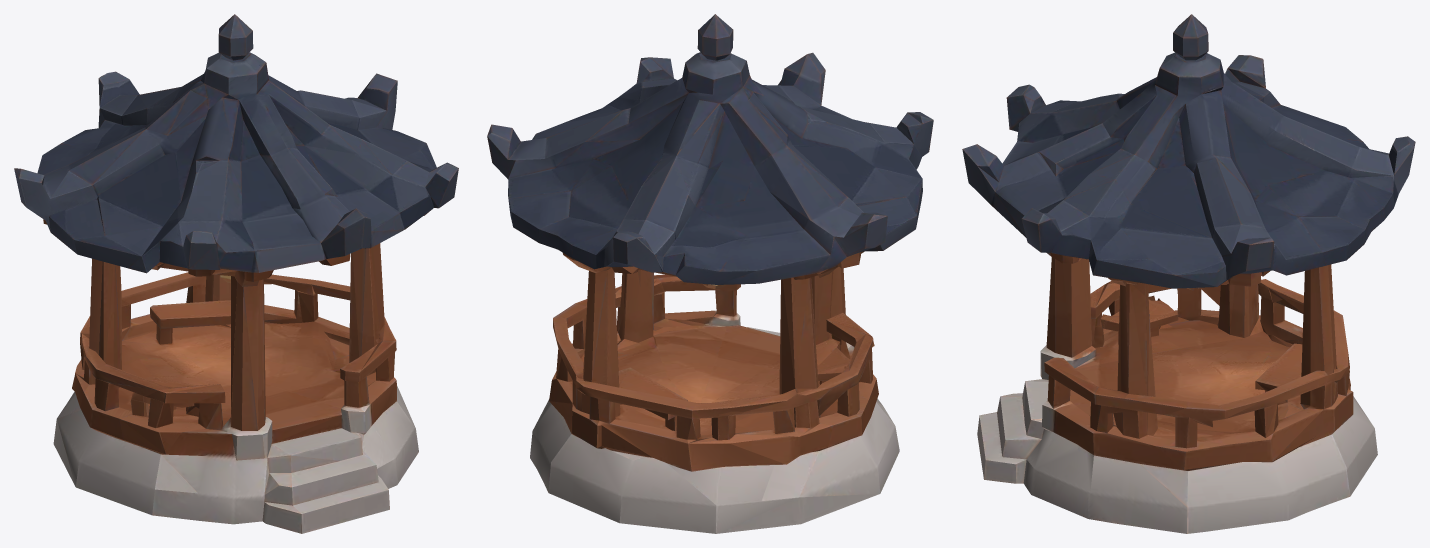
The model's file is pavilion.glb.
3 views of the same model, side by side, from view 1: azimuth 30°, elevation 25°; view 2: azimuth 150°, elevation 25°; view 3: azimuth 270°, elevation 25° (orthographic).
Bounding box in the file's own units: 1.76 × 1.9 × 1.77.
Materials: 1 (1 with a texture image).
